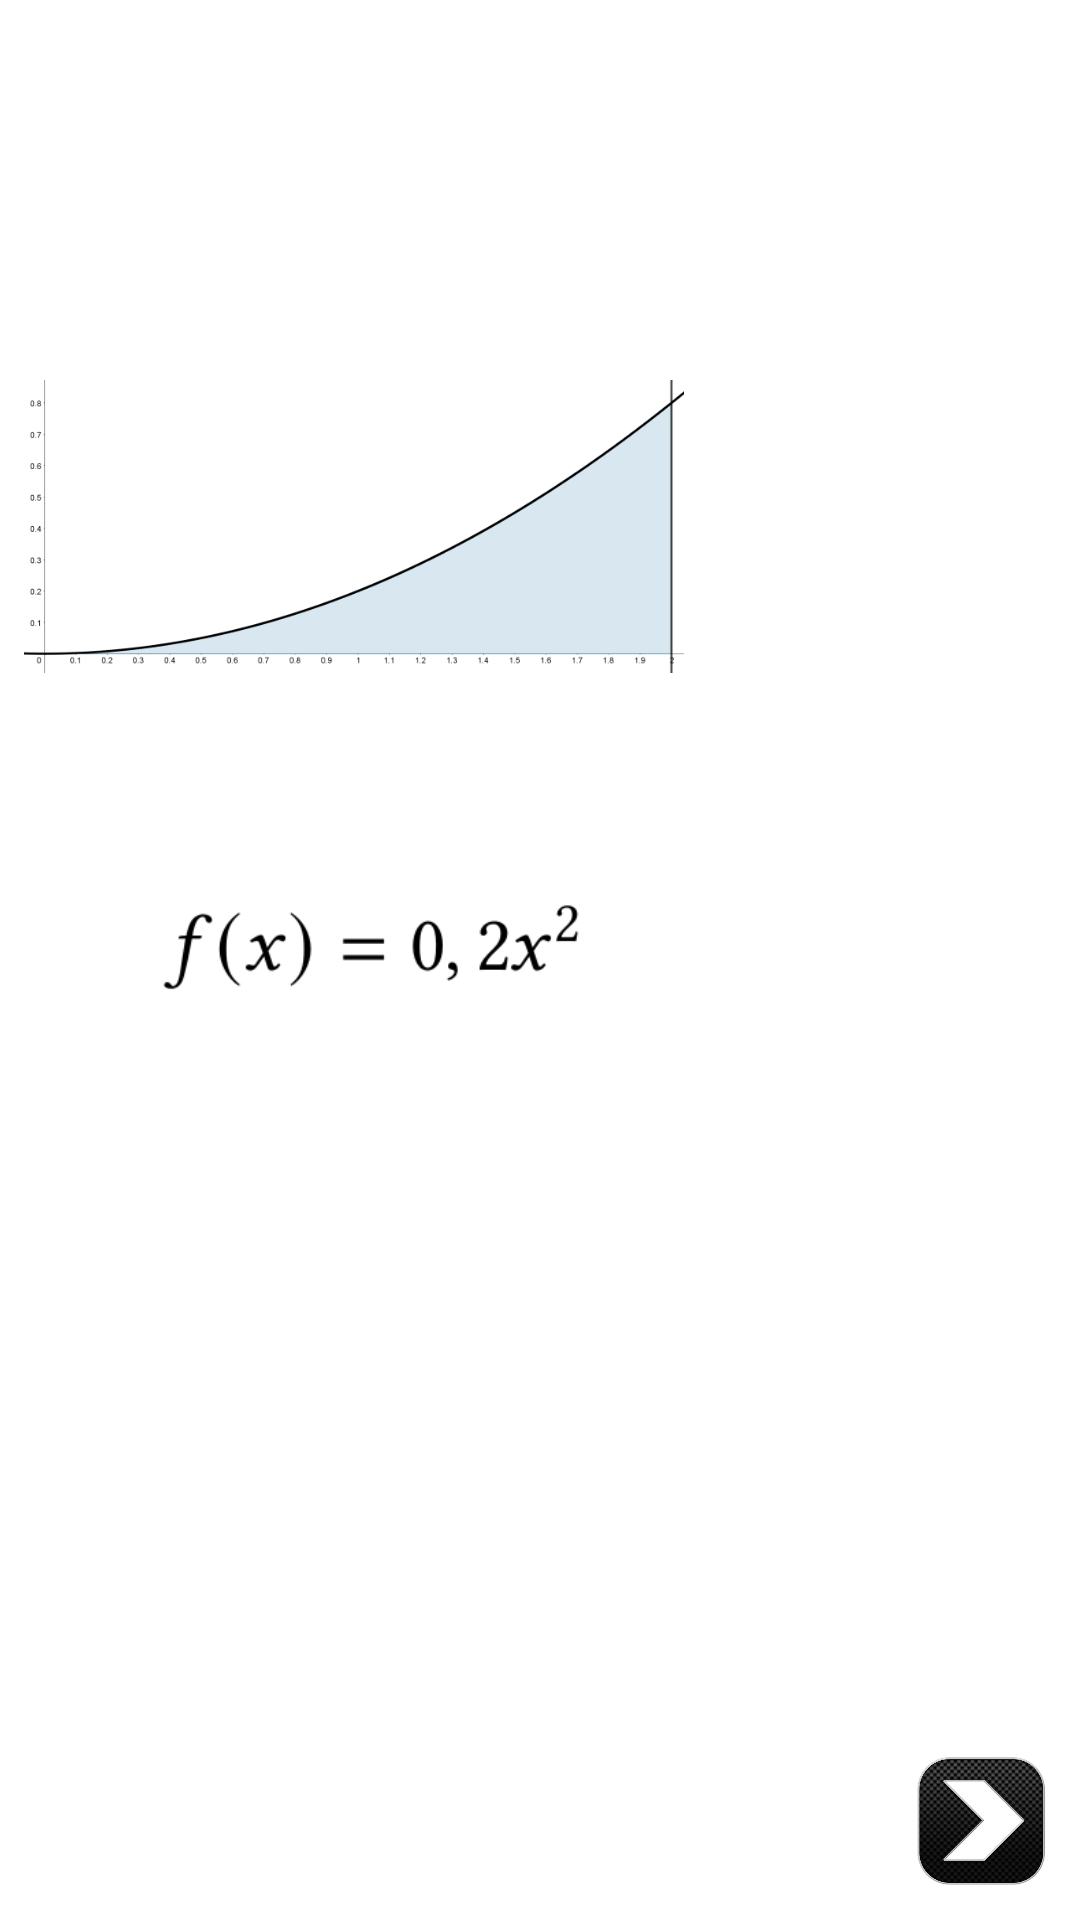

Where to tap for icons on this 1080px x 1920px app screen, as point (x, y):
nextbutton: point (981, 1821)
